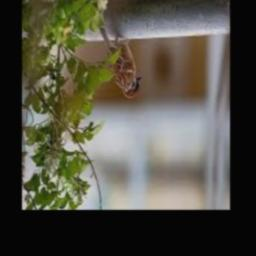Sparrow: (99, 28, 141, 99)
